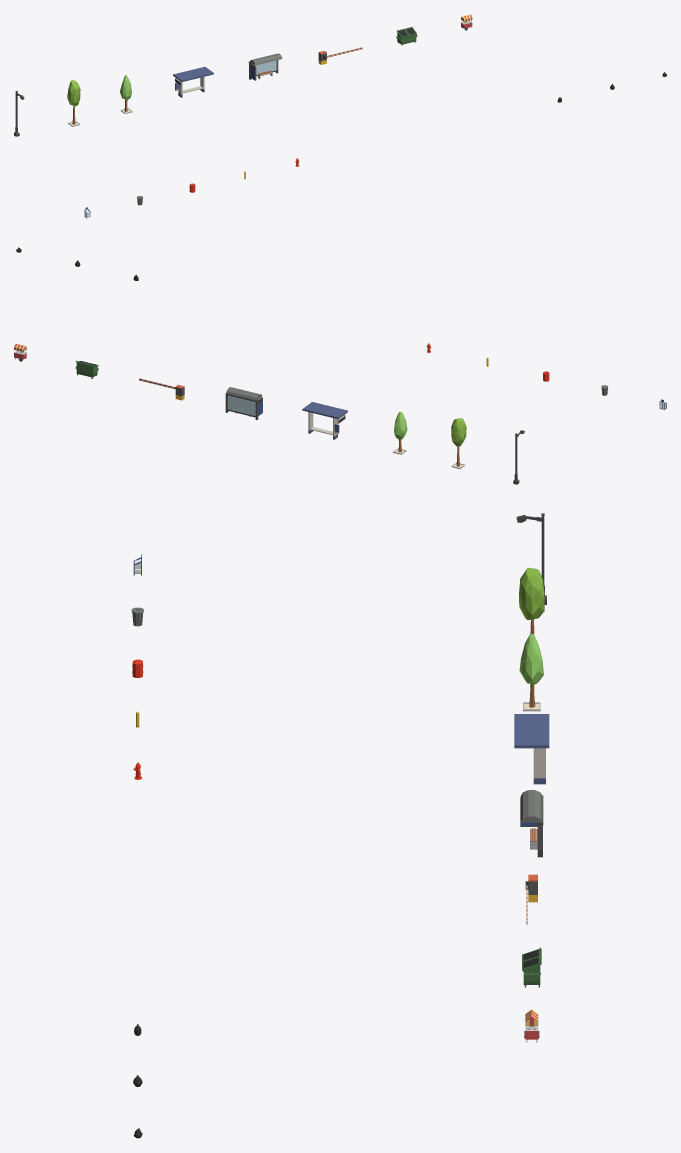
File: city_other.glb
3 renders of one model, top to bottom at view 1: azimuth 30°, elevation 25°; view 2: azimuth 150°, elevation 25°; view 3: azimuth 270°, elevation 25°, orthographic. The views are drawn at different scales.
Parts seen in each view (by area): view 1: Tram_Stop_Mat_0; view 2: Tram_Stop_Mat_0; view 3: Tram_Stop_Mat_0.
Boxes of the visible parts, x1=… form: Tram_Stop_Mat_0: x1=14, y1=14, x2=666, y2=218; Tram_Stop_Mat_0: x1=14, y1=247, x2=666, y2=484; Tram_Stop_Mat_0: x1=131, y1=513, x2=549, y2=1138.
Size of the model in its own units: 22.62 by 1.65 by 7.03.
Materials: 1 (1 with a texture image).
